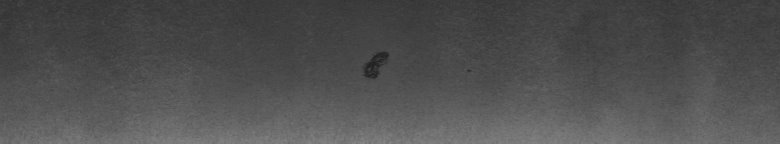fi: (364, 52, 389, 80)
